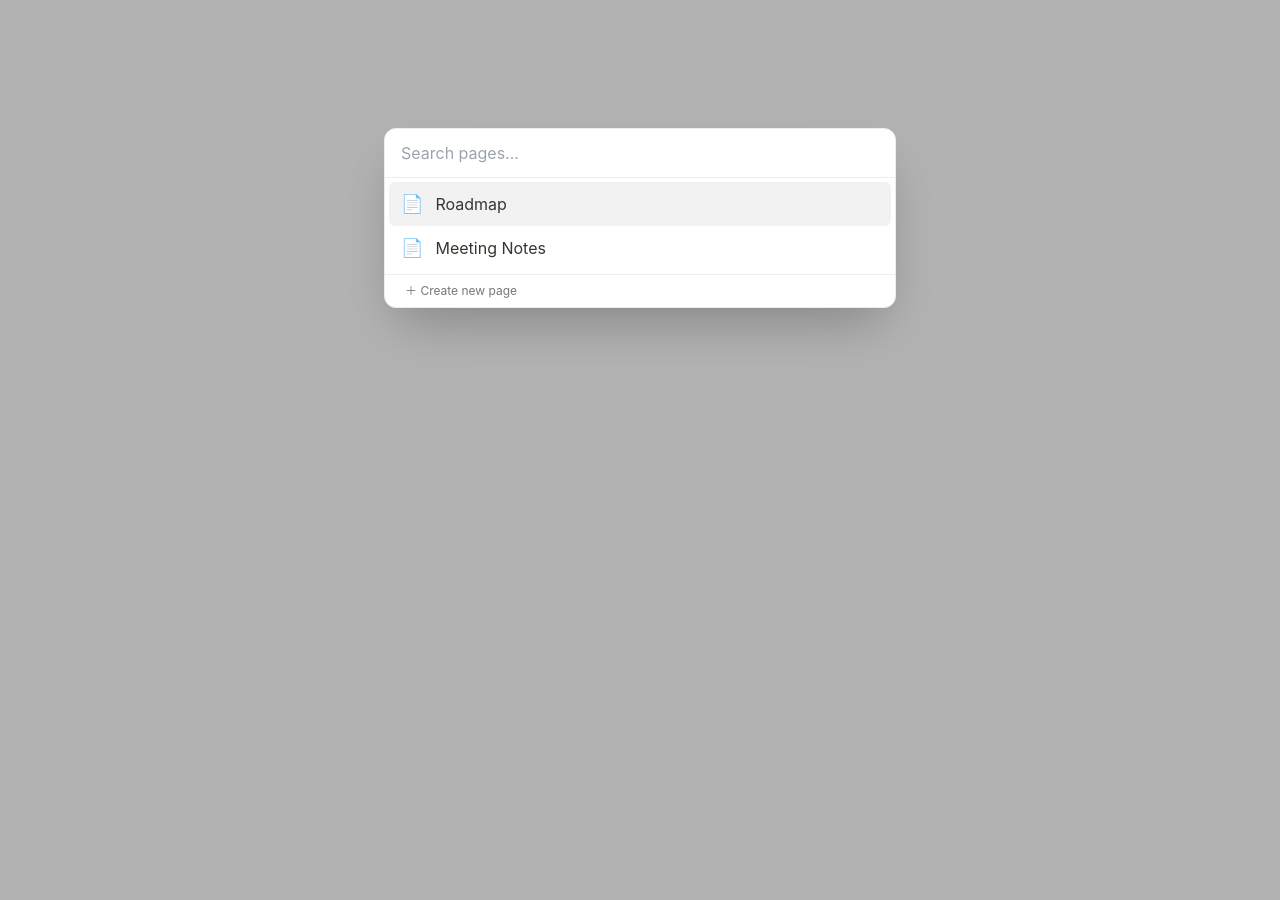
Test: QuickFind › shows an empty state for no matches
Type "zzzzz" into the field with placeholder "Search pages..." at (640, 154), box [385,129,895,178]
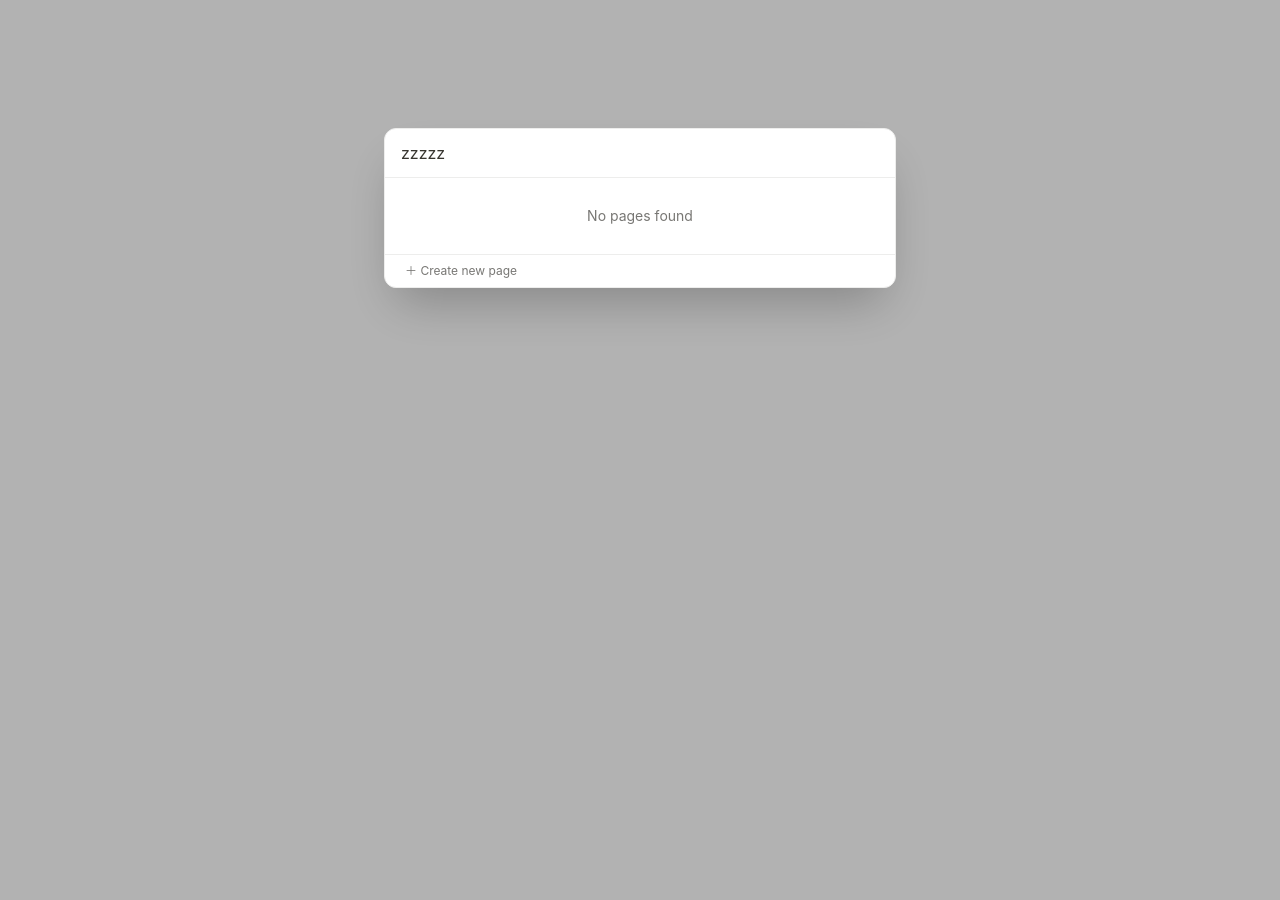
Expected: the text "No pages found" is shown, [587,207,693,224]
